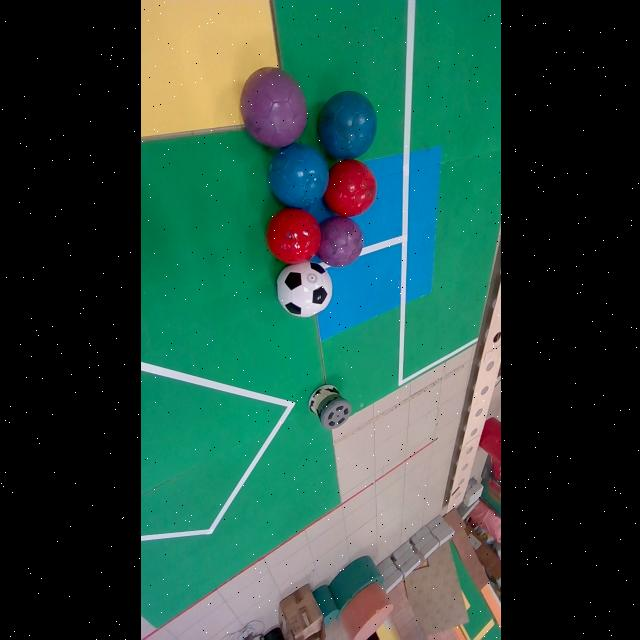B: (316, 92, 376, 159), (268, 144, 328, 208)
P: (240, 68, 306, 148), (316, 216, 362, 268)
R: (324, 159, 376, 218), (266, 208, 320, 264)
